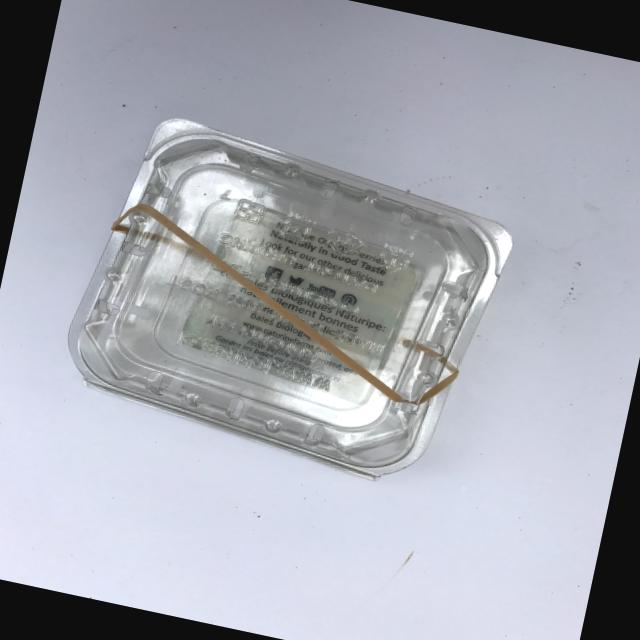Plastic: (1, 80, 552, 528)
